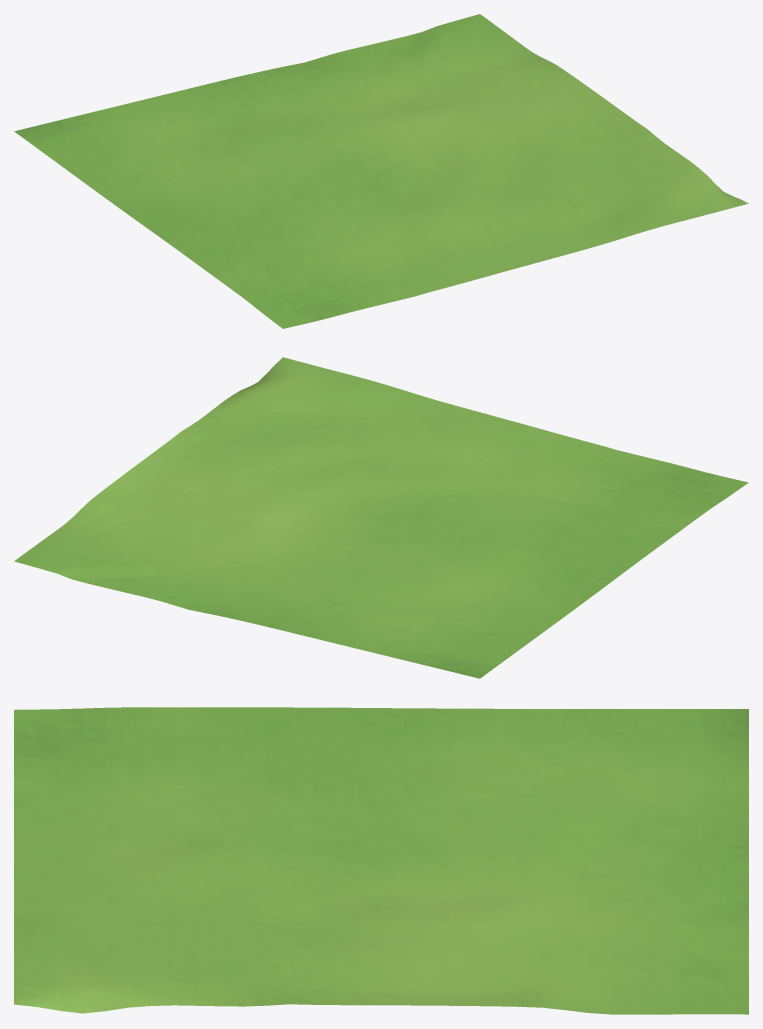
The model's file is terrain_r2_c3.glb.
3 views of the same model, one above another, from view 1: azimuth 30°, elevation 25°; view 2: azimuth 150°, elevation 25°; view 3: azimuth 270°, elevation 25° (orthographic). The views are drawn at different scales.
Visible parts, largest first — view 1: terrain_r2_c3; view 2: terrain_r2_c3; view 3: terrain_r2_c3.
Part boxes in pixels (x1,y1,x2,y2): terrain_r2_c3: (14,14,748,328); terrain_r2_c3: (14,357,748,678); terrain_r2_c3: (14,707,748,1014).
Bounding box in the file's own units: 128 × 3.63 × 128.
Materials: 1 (1 with a texture image).
